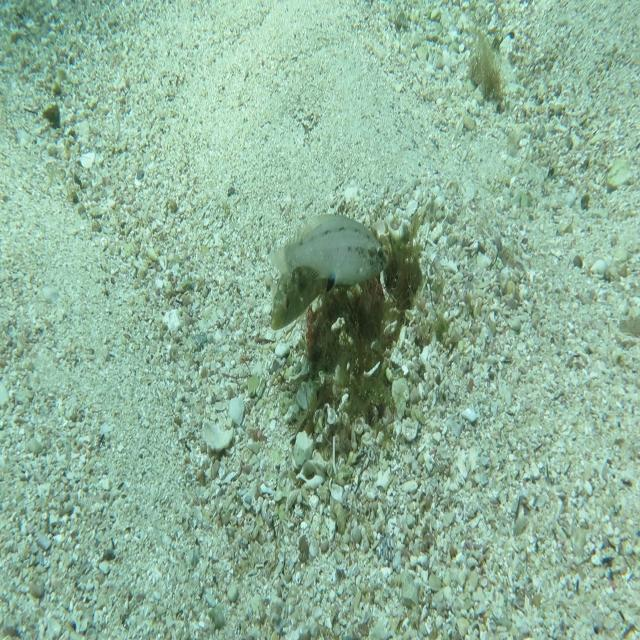DAN_CIRC: (268, 263, 334, 332)
core_nest: (365, 251, 410, 298)
female: (267, 209, 390, 298)
nest: (283, 181, 433, 454)
